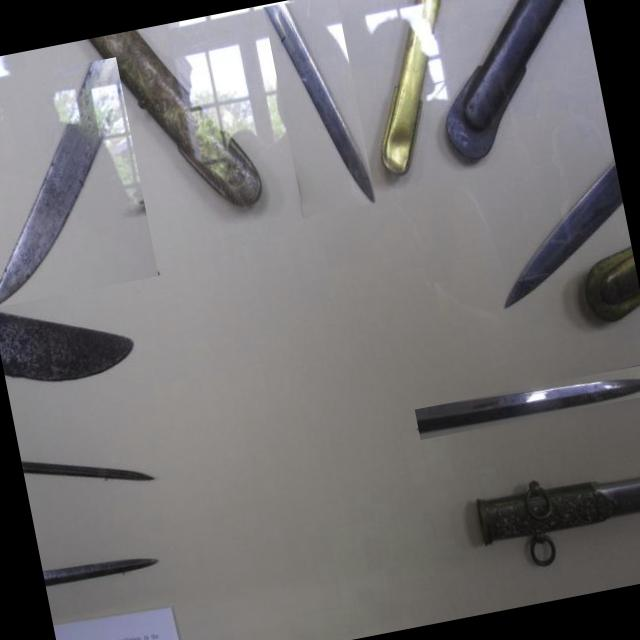Knife: (0, 57, 121, 305), (264, 5, 375, 204), (506, 161, 622, 308), (415, 380, 640, 438), (43, 559, 160, 590), (22, 463, 159, 485)
